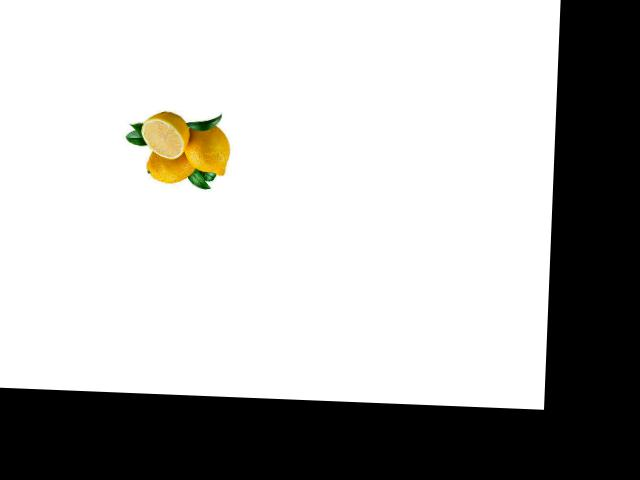lemon: (180, 118, 234, 182)
